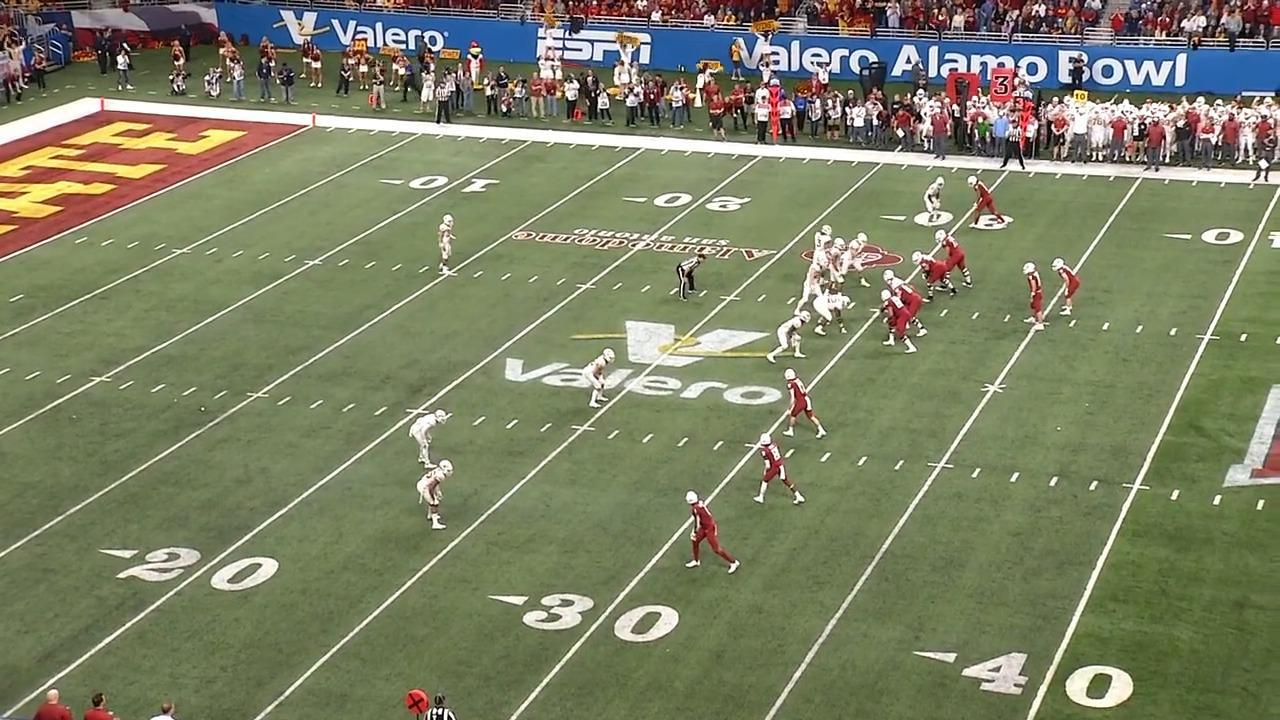player: (682, 487, 744, 576), (750, 432, 808, 510), (776, 367, 828, 442), (417, 456, 456, 535), (887, 277, 931, 339), (765, 308, 812, 365), (910, 250, 958, 305), (409, 407, 449, 472), (883, 292, 923, 356), (968, 174, 1012, 229), (1023, 258, 1052, 334), (936, 230, 973, 289), (582, 346, 616, 410), (1055, 257, 1087, 323), (793, 256, 828, 312), (811, 292, 853, 338), (843, 233, 872, 289), (436, 212, 459, 279), (918, 175, 948, 226), (827, 234, 849, 290), (883, 267, 918, 298), (812, 223, 834, 264)
ref: (673, 250, 707, 303), (1001, 112, 1028, 173), (423, 693, 467, 720), (433, 77, 454, 126)
